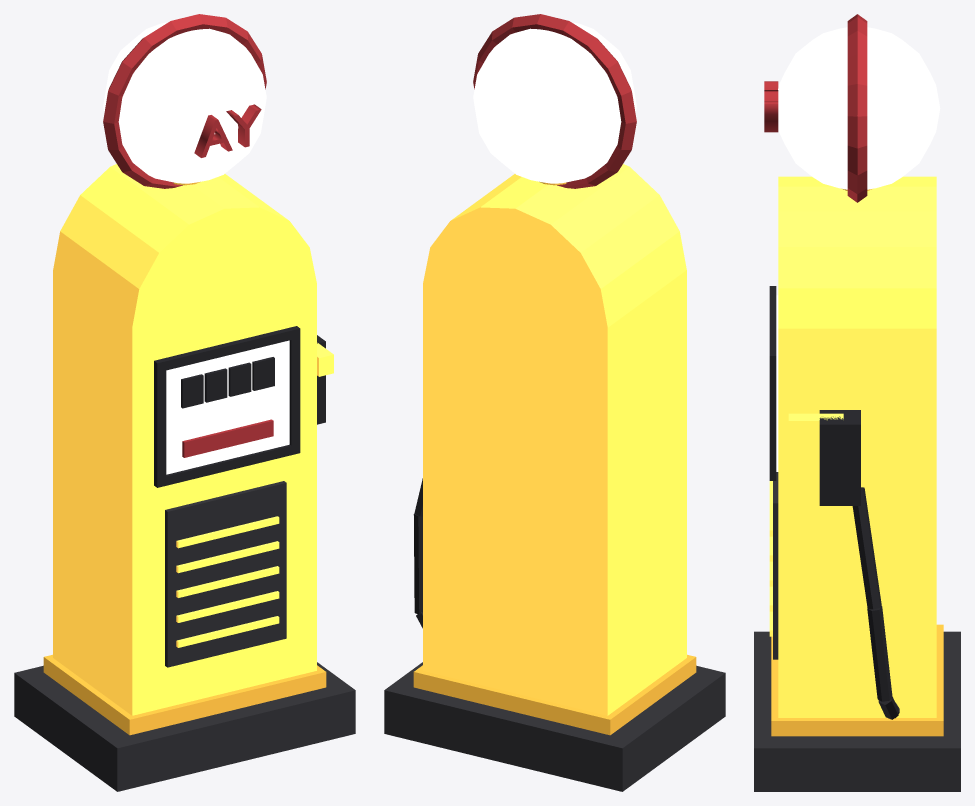
Rendered from lux_gold_gas_pump.glb.
3 renders of one model, left to right at view 1: azimuth 30°, elevation 25°; view 2: azimuth 150°, elevation 25°; view 3: azimuth 270°, elevation 25°, orthographic.
Parts seen in each view (by area): view 1: lux_gold_gas_pump; view 2: lux_gold_gas_pump; view 3: lux_gold_gas_pump.
Boxes of the visible parts, left/top/right/bottom form: lux_gold_gas_pump: left=14, top=14, right=355, bottom=791; lux_gold_gas_pump: left=384, top=14, right=725, bottom=791; lux_gold_gas_pump: left=754, top=14, right=960, bottom=791.
Bounding box in the file's own units: 0.8414 × 2.27 × 0.6.
